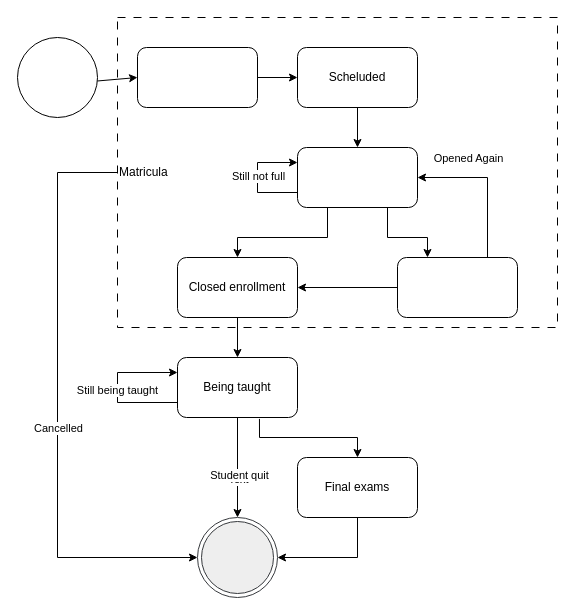
Image size: 575x615. Some labels were removed from this diagram. The shapes that lost their labels are listed below. From the top down, each one's centre as x and y in pixels, then its label:
At (x=197, y=77): "Proposed".
At (x=357, y=177): "Open for enrollment".
At (x=457, y=287): "Full".
